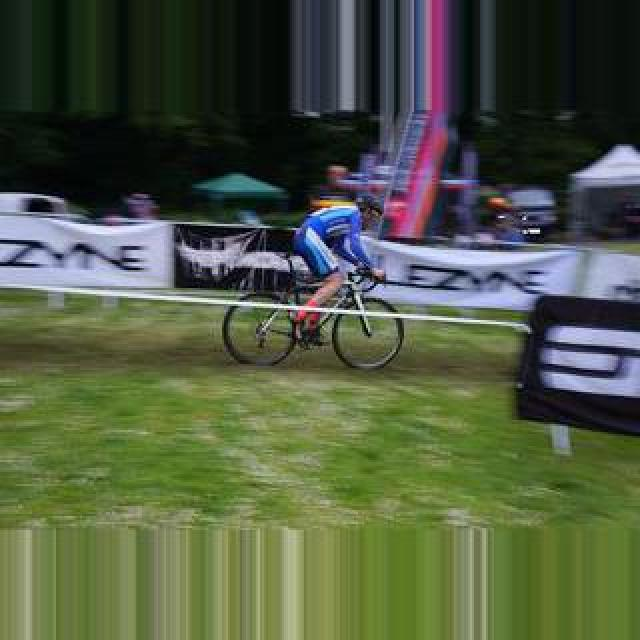MC-Bike: (288, 164, 386, 334)
Person: (222, 260, 402, 370)
